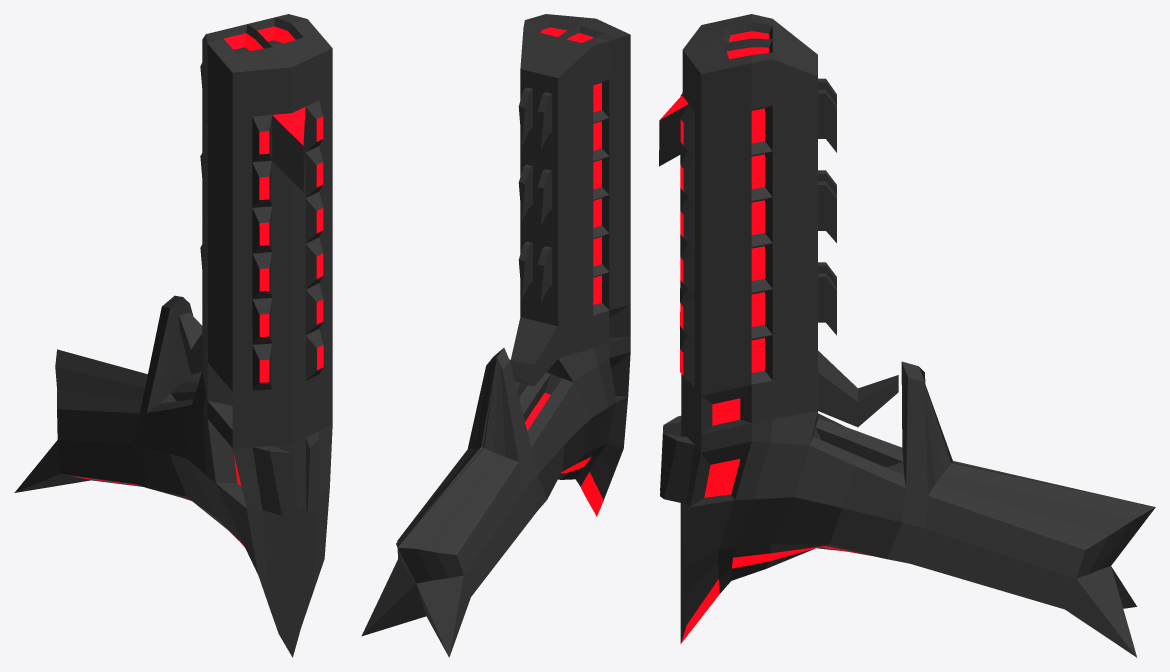
File: PistolWeapon.glb
3 renders of one model, left to right at view 1: azimuth 30°, elevation 25°; view 2: azimuth 150°, elevation 25°; view 3: azimuth 270°, elevation 25°, orthographic. The views are drawn at different scales.
Visible parts, largest first — view 1: Pistol; view 2: Pistol; view 3: Pistol.
Part boxes in pixels (box(x1,y1,x2,y2)): Pistol: box(14, 14, 332, 657); Pistol: box(361, 14, 630, 657); Pistol: box(659, 14, 1155, 657).
Bounding box in the file's own units: 0.0466 × 0.2575 × 0.1914.
